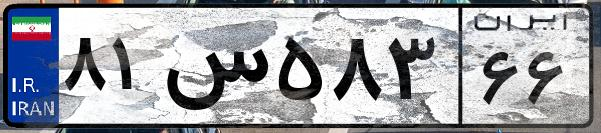1: (110, 28, 158, 98)
3: (385, 28, 445, 110)
5: (270, 28, 330, 110)
6: (475, 38, 525, 113), (525, 38, 570, 115)
8: (330, 28, 385, 110), (57, 26, 110, 100)
س: (158, 20, 270, 120)
